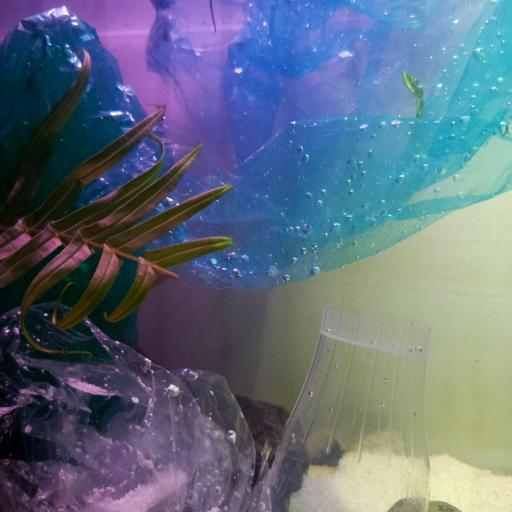plastic_bag: (1, 0, 512, 285), (0, 303, 260, 510)
plastic_cup: (256, 303, 435, 512)
